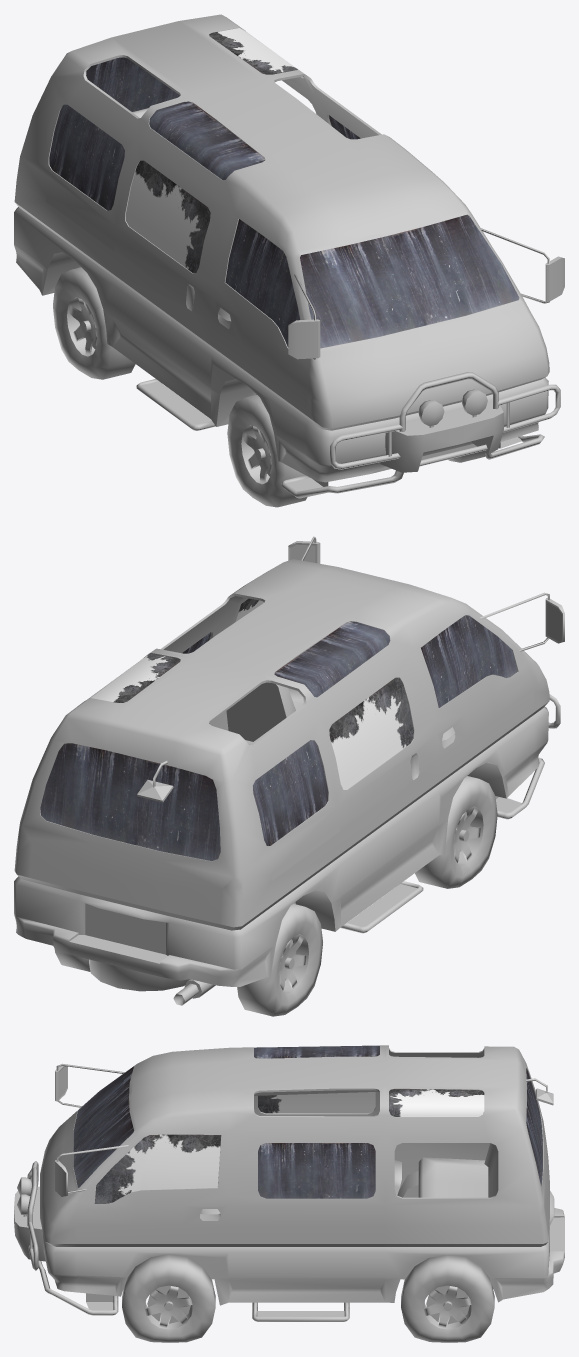
The model's file is car_rust_01.FBX.
3 views of the same model, one above another, from view 1: azimuth 30°, elevation 25°; view 2: azimuth 150°, elevation 25°; view 3: azimuth 270°, elevation 25° (orthographic). The views are drawn at different scales.
Parts seen in each view (by area): view 1: car, glass; view 2: car, glass; view 3: car, glass.
Boxes of the visible parts, x1=… form: car: x1=14, y1=14, x2=564, y2=507; glass: x1=49, y1=28, x2=519, y2=348; car: x1=14, y1=536, x2=564, y2=1016; glass: x1=40, y1=598, x2=517, y2=860; car: x1=14, y1=1045, x2=564, y2=1342; glass: x1=73, y1=1045, x2=542, y2=1203.
Bounding box in the file's own units: 26.79 × 57.81 × 26.36.
